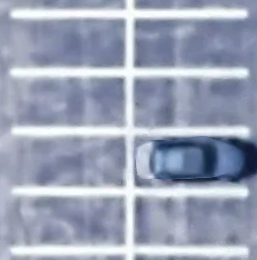Occupied: (130, 132, 247, 193)
Vacant: (13, 130, 131, 191), (13, 72, 130, 133), (130, 71, 245, 133), (13, 191, 131, 251), (131, 192, 247, 253), (129, 13, 245, 73), (13, 13, 129, 71)
